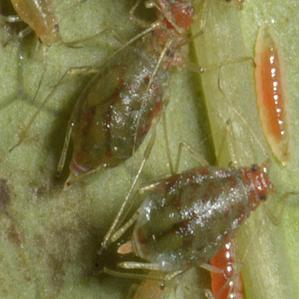Green peach aphid: (42, 0, 204, 196), (96, 159, 287, 280), (243, 22, 299, 174), (0, 0, 70, 66)
